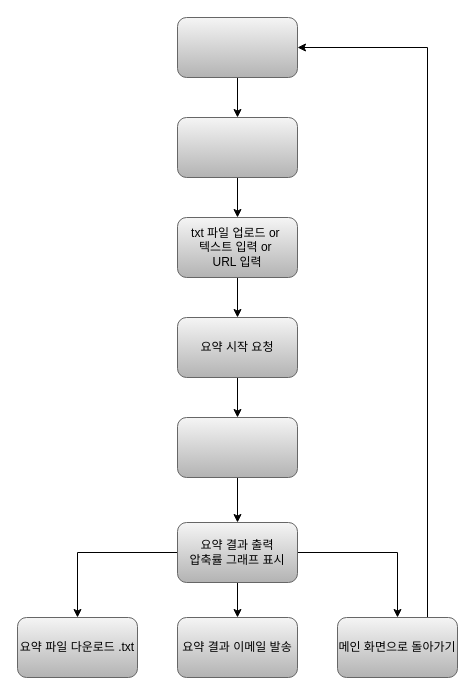
The diagram is 475 pixels wide and 695 high, and some of its shapes have lost their labels. The centre of each missing label's shape, as x and y in pixels:
LLM 요약 수행: (x=237, y=447)
메인 화면: (x=237, y=47)
모델 선택 + 요약 스타일 선택: (x=237, y=147)
